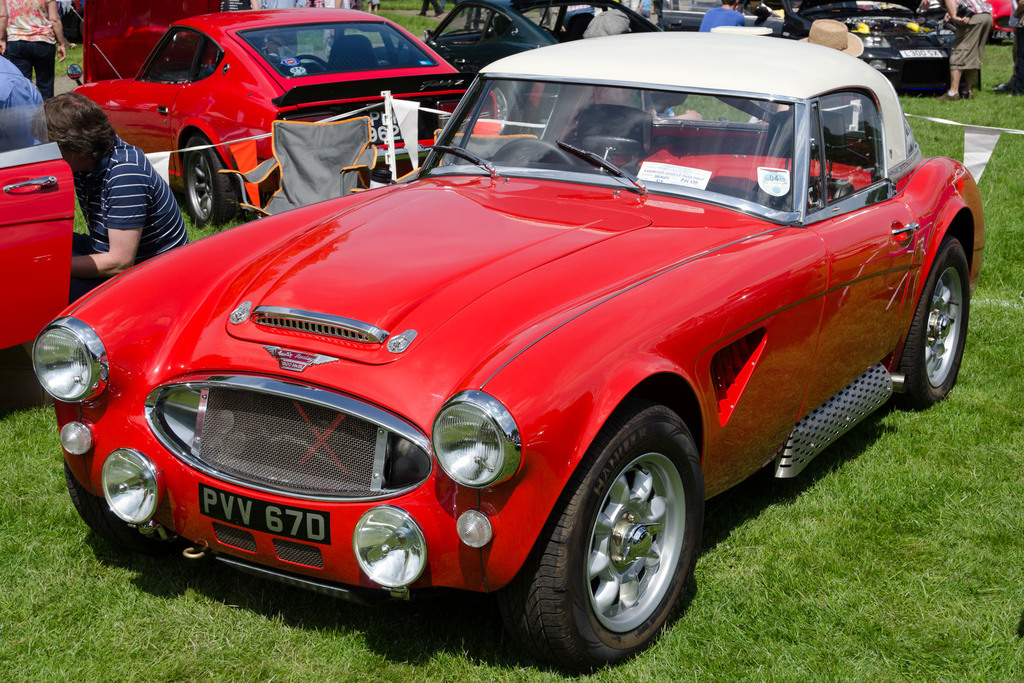Car: (0, 0, 1023, 666)
